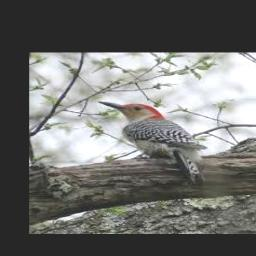Woodpecker: (97, 101, 206, 184)
